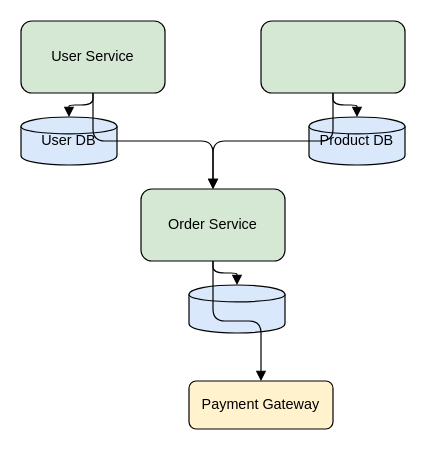
Some shapes in this 426 by 450 pixel diagram are drawn without their labels. Each missing label, with the box of its shape:
Order DB: (188, 284, 285, 333)
Product Service: (260, 20, 405, 93)
